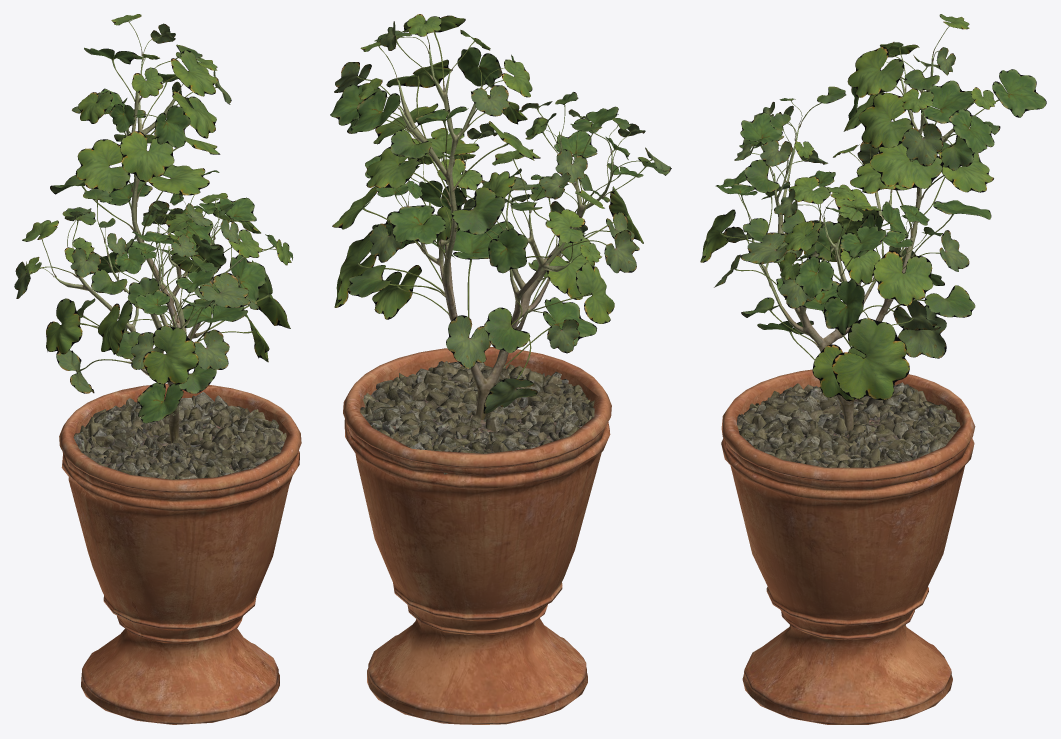
Rendered from potted_plant_01.glb.
The picture shows the model from 3 angles, left to right: view 1: azimuth 30°, elevation 25°; view 2: azimuth 150°, elevation 25°; view 3: azimuth 270°, elevation 25°; orthographic projection. The views are drawn at different scales.
Visible parts, largest first — view 1: potted_plant_01_pot, potted_plant_01_leaves, potted_plant_01_pebbles, potted_plant_01_stem; view 2: potted_plant_01_pot, potted_plant_01_leaves, potted_plant_01_pebbles, potted_plant_01_stem; view 3: potted_plant_01_pot, potted_plant_01_leaves, potted_plant_01_pebbles, potted_plant_01_stem.
Boxes of the visible parts, box(x1,y1,x2,y2) form: potted_plant_01_pot: box(59, 383, 301, 724); potted_plant_01_leaves: box(14, 14, 292, 423); potted_plant_01_pebbles: box(73, 392, 286, 479); potted_plant_01_stem: box(54, 54, 244, 443); potted_plant_01_pot: box(343, 347, 611, 724); potted_plant_01_leaves: box(330, 14, 671, 413); potted_plant_01_pebbles: box(360, 361, 594, 474); potted_plant_01_stem: box(398, 48, 612, 419); potted_plant_01_pot: box(721, 369, 975, 724); potted_plant_01_leaves: box(700, 14, 1046, 401); potted_plant_01_pebbles: box(737, 382, 960, 467); potted_plant_01_stem: box(752, 55, 966, 432).
Size of the model in its own units: 0.5874 by 1.34 by 0.6336.
Materials: 2 (2 with a texture image).
